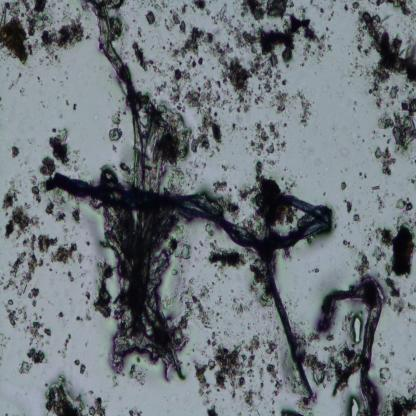Air bubble: (350, 310, 362, 344), (346, 395, 360, 416)
Background material: (102, 207, 184, 378), (191, 330, 301, 416), (167, 65, 228, 155), (0, 0, 86, 62), (218, 162, 295, 231), (2, 229, 79, 293), (242, 15, 336, 66), (353, 13, 416, 84), (223, 51, 289, 117), (294, 335, 358, 396), (161, 276, 219, 341), (371, 86, 416, 156), (371, 216, 416, 278), (44, 371, 106, 415), (176, 25, 228, 68), (247, 121, 289, 162), (199, 236, 248, 271), (24, 313, 53, 369), (165, 157, 208, 194), (90, 260, 116, 321), (381, 275, 416, 318), (213, 9, 250, 47), (244, 260, 272, 308), (128, 38, 160, 78), (340, 240, 372, 276), (4, 207, 42, 237), (240, 0, 294, 21), (163, 3, 191, 38), (49, 126, 73, 165), (45, 191, 71, 224), (105, 108, 127, 146), (293, 90, 314, 128), (4, 296, 27, 330), (374, 146, 400, 176), (1, 177, 22, 212), (387, 391, 416, 415), (372, 0, 415, 16), (173, 237, 196, 264), (229, 296, 254, 320), (190, 0, 214, 21), (29, 171, 43, 204), (342, 199, 361, 220), (147, 2, 164, 25), (26, 285, 43, 308), (57, 329, 69, 361), (41, 156, 56, 178), (396, 198, 416, 214), (377, 362, 392, 383), (376, 191, 388, 214), (73, 356, 87, 374), (74, 309, 90, 323), (10, 142, 22, 160), (70, 206, 81, 224), (368, 181, 381, 193), (406, 382, 416, 395), (128, 406, 144, 414), (84, 290, 91, 302), (71, 101, 79, 111), (56, 312, 64, 320), (340, 181, 346, 191)
Cellulose filter fibre: (93, 0, 147, 188), (318, 278, 380, 416), (141, 105, 167, 189)
Cotton: (51, 172, 334, 394)
